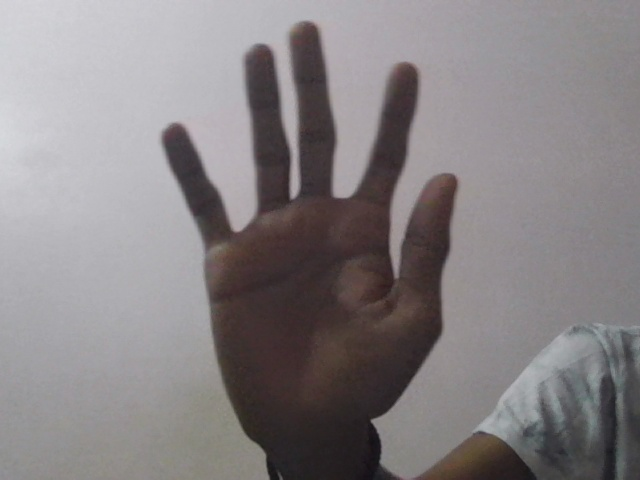hello: (154, 12, 458, 458)
